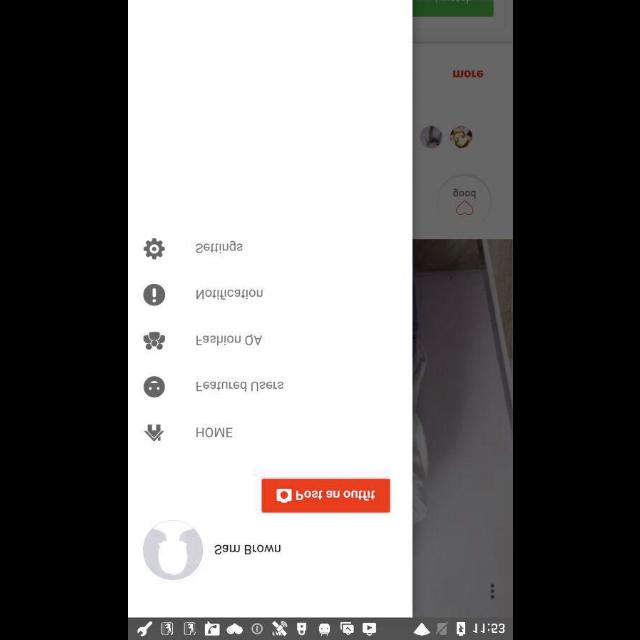icon: (142, 520, 202, 580), (142, 284, 166, 306), (143, 238, 165, 260), (142, 332, 166, 351), (144, 423, 164, 442)
image: (143, 375, 165, 397)
panel: (128, 0, 412, 616)
text: (196, 380, 284, 392), (195, 288, 263, 300), (213, 543, 280, 555), (195, 334, 262, 346), (194, 240, 242, 254), (195, 426, 233, 438)
textbutton: (262, 479, 391, 513)
uppertaskbar: (128, 617, 512, 639)
